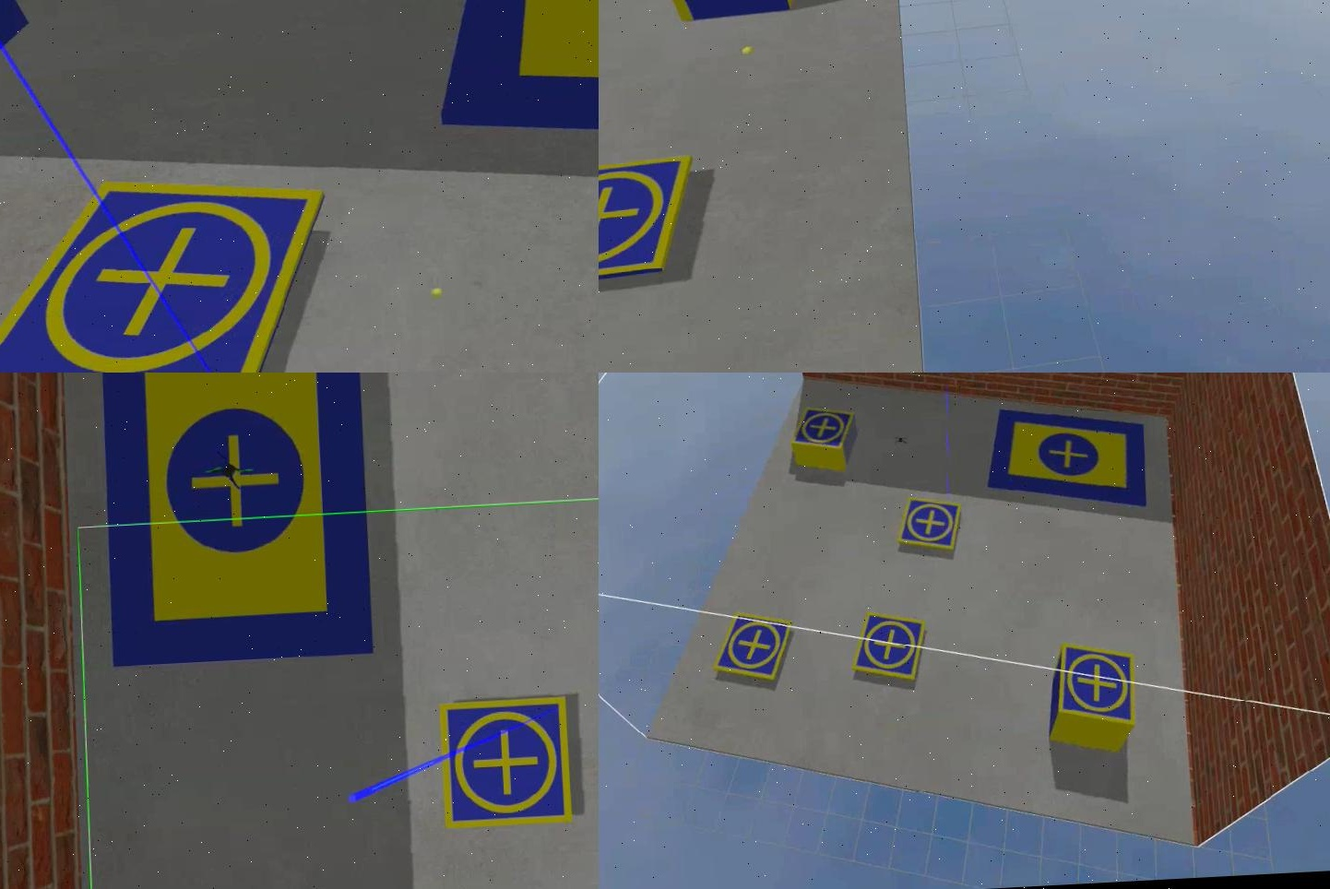large_base: (95, 373, 375, 672), (980, 404, 1144, 516)
small_base: (0, 171, 335, 373), (440, 697, 573, 831), (598, 153, 697, 293), (1050, 642, 1137, 731), (709, 611, 792, 688), (847, 611, 926, 686), (894, 497, 963, 556), (787, 406, 856, 454)
